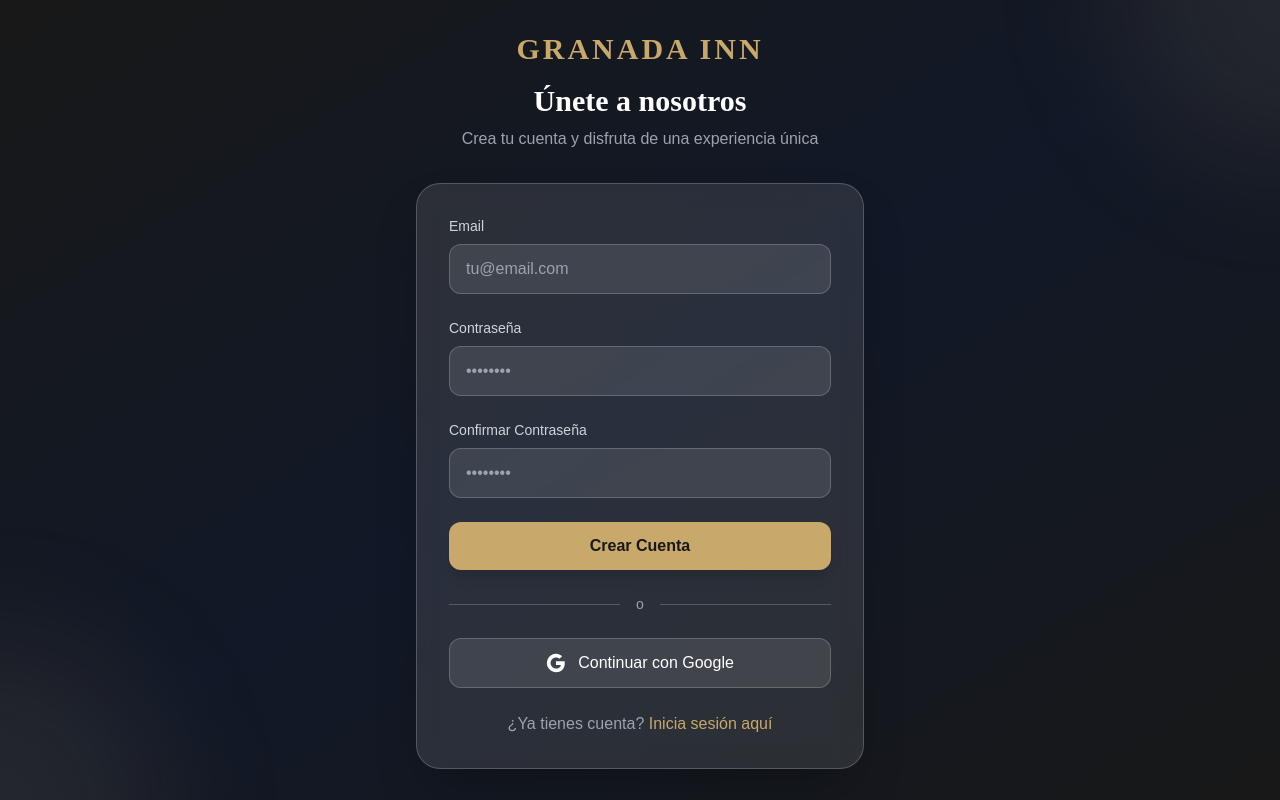
Test: Auth Pages › RegisterPage › validates password confirmation
Type "test@example.com" into the field with placeholder "tu@email.com" at (640, 269), box x1=449 y1=244 x2=831 y2=294
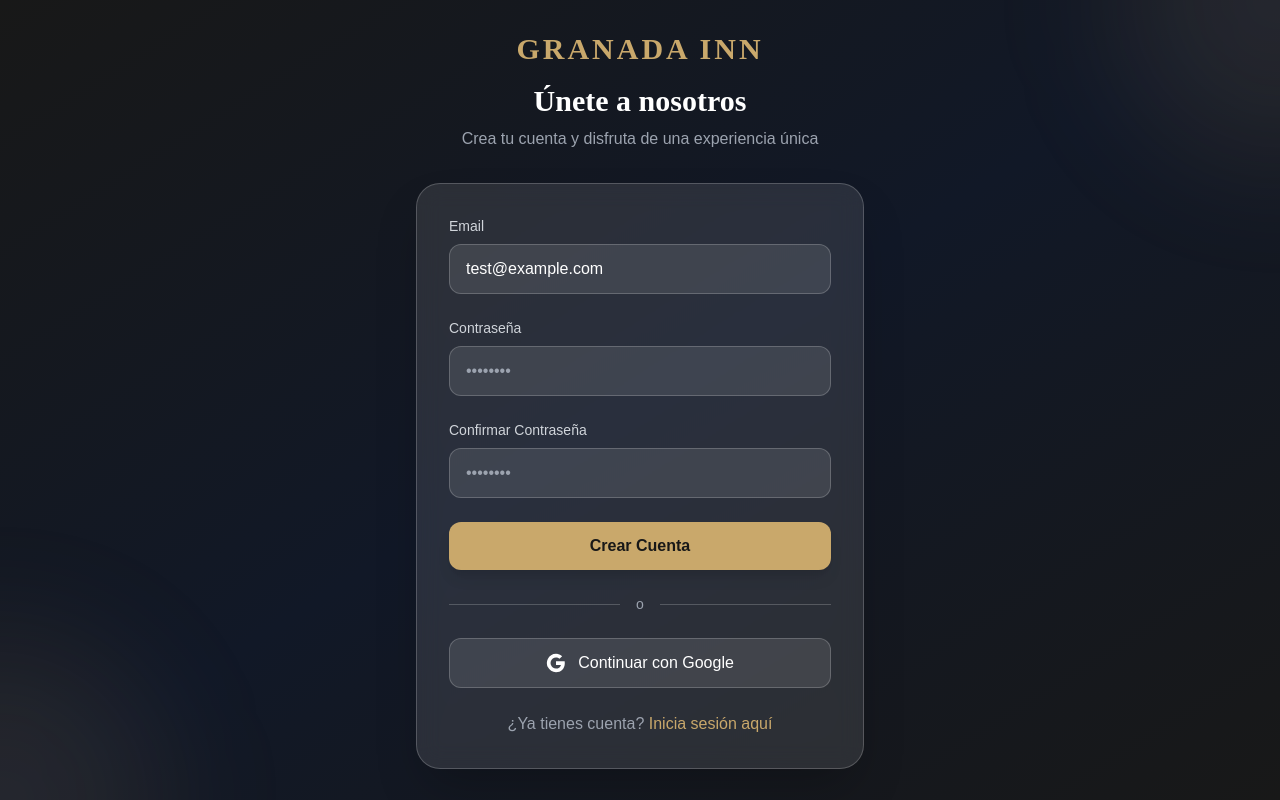
Type "password123" into the 1st password field with placeholder "••••••••" at (640, 371), box x1=449 y1=346 x2=831 y2=396
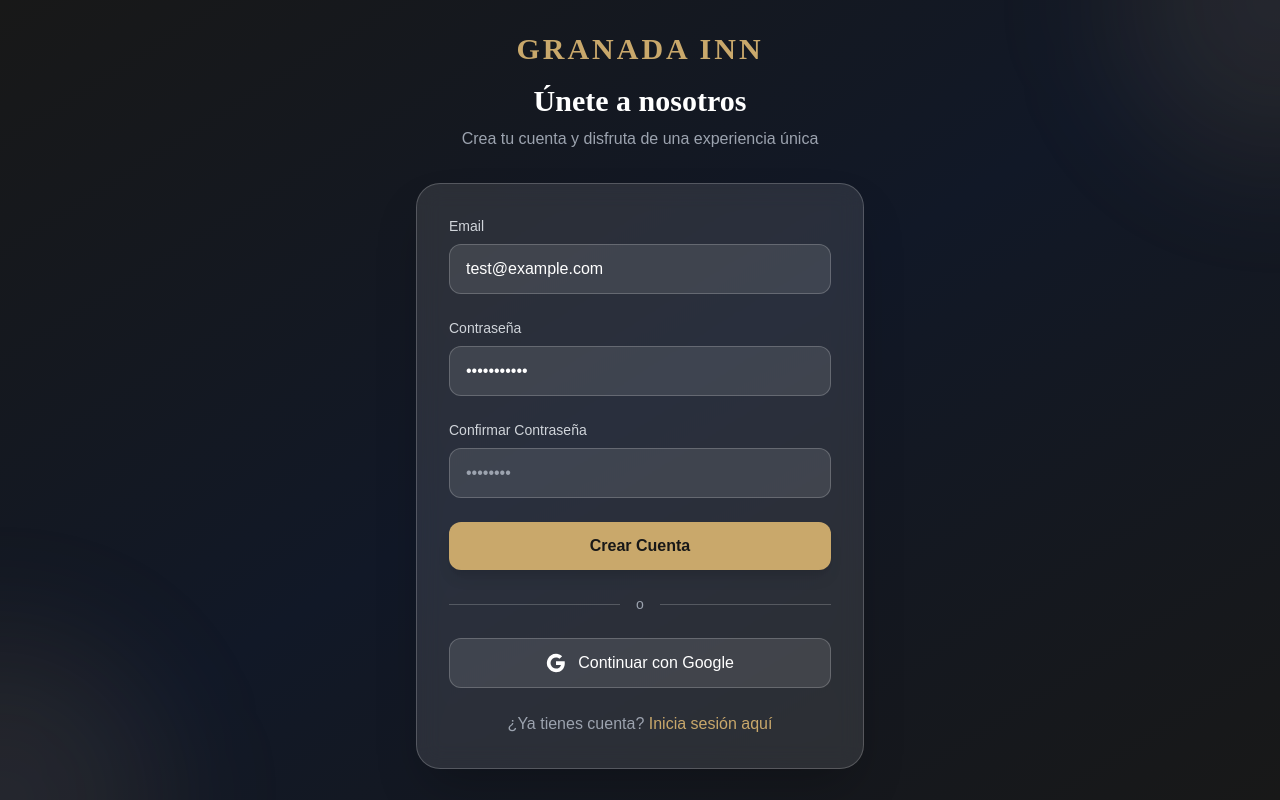
Type "different" into the password field with placeholder "••••••••" at (640, 473), box x1=449 y1=448 x2=831 y2=498
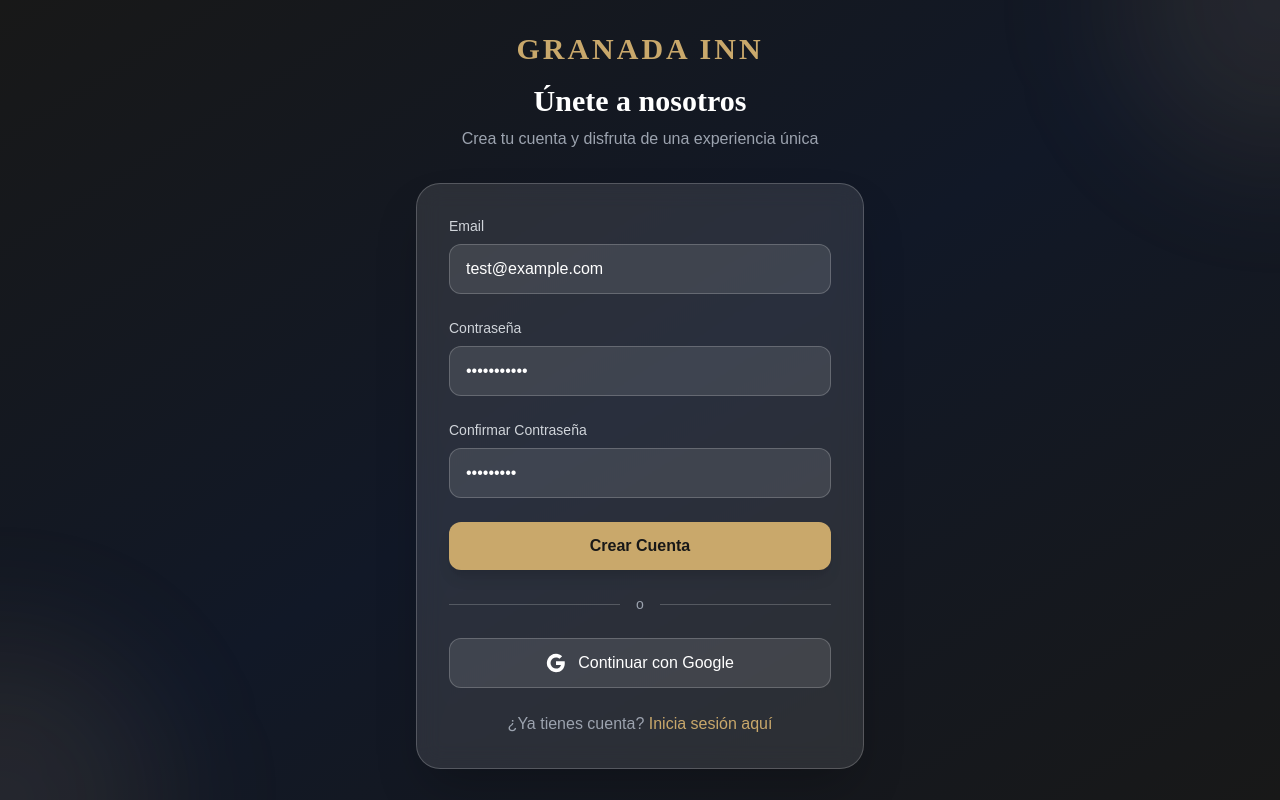
Click the button "Crear Cuenta" at (640, 546), box x1=449 y1=522 x2=831 y2=570
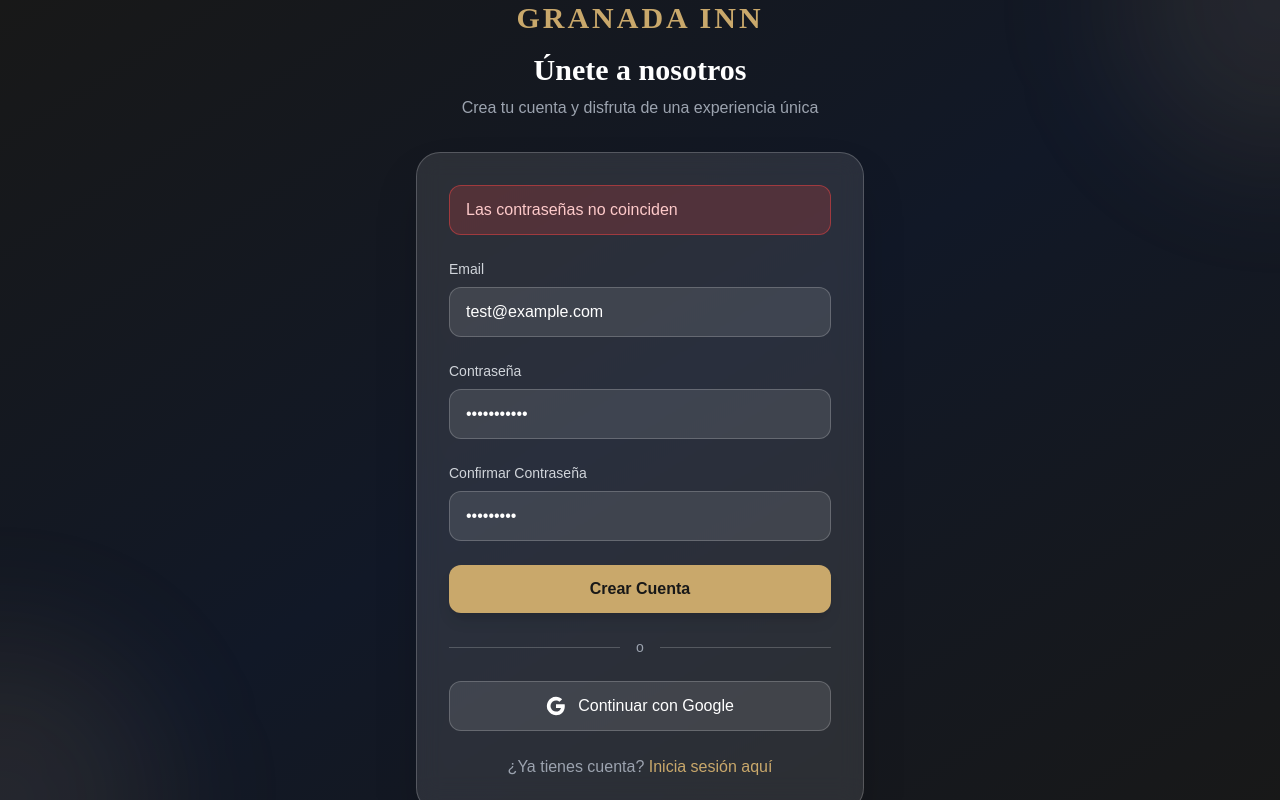
Check: the text "Las contraseñas no coinciden" is shown, box x1=449 y1=185 x2=831 y2=235
